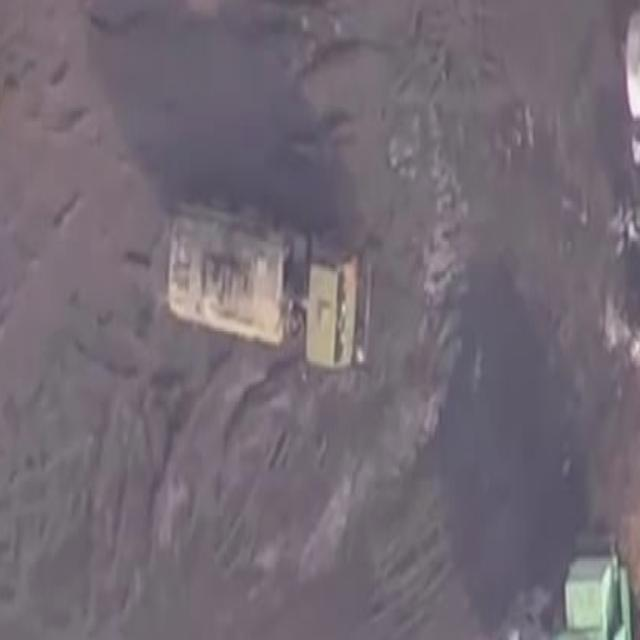TRUCK: (164, 190, 375, 382)
